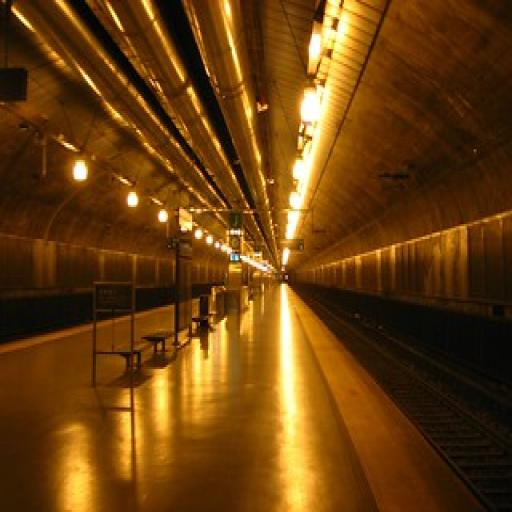platform_edge: (290, 293, 511, 512)
